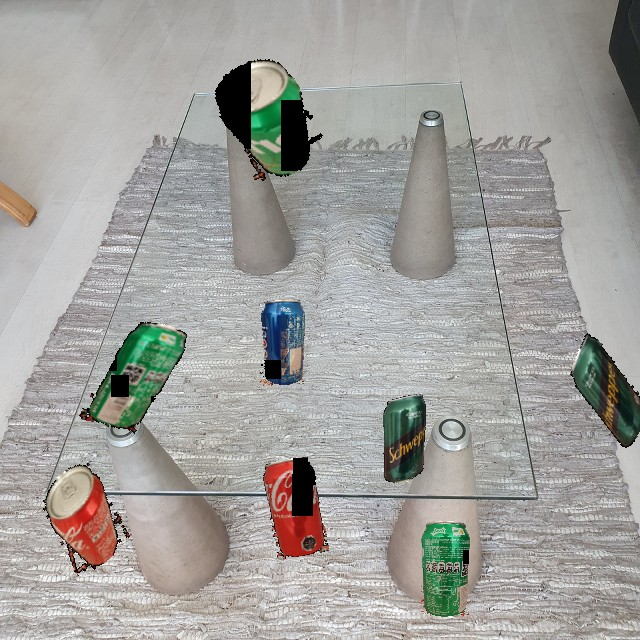coca cola: (27, 453, 141, 582), (263, 457, 329, 559)
pepsi: (260, 300, 305, 386)
schweppes: (544, 328, 640, 454), (383, 391, 427, 486)
sprite: (181, 31, 358, 207), (79, 305, 194, 446), (420, 521, 470, 617)
